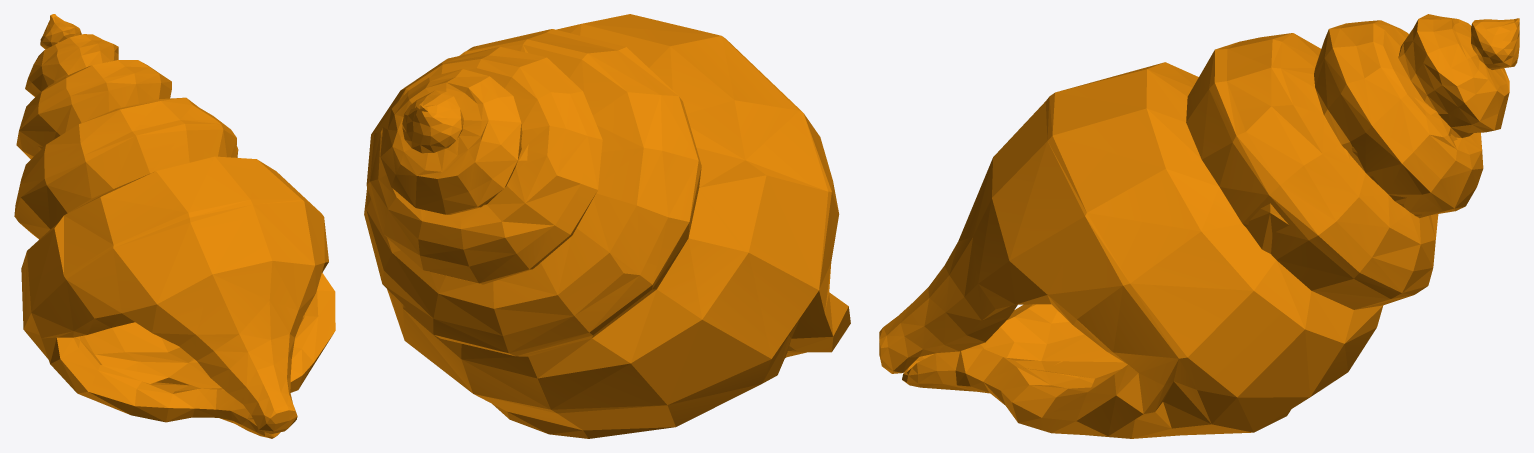
The model's file is EmptyShell_Static_Unity.fbx.
The picture shows the model from 3 angles, left to right: view 1: azimuth 30°, elevation 25°; view 2: azimuth 150°, elevation 25°; view 3: azimuth 270°, elevation 25°; orthographic projection. The views are drawn at different scales.
Parts seen in each view (by area): view 1: EmptyShell; view 2: EmptyShell; view 3: EmptyShell.
Boxes of the visible parts, x1,y1,x2,y2 form: EmptyShell: [14, 14, 335, 438]; EmptyShell: [364, 14, 850, 438]; EmptyShell: [879, 14, 1519, 438].
Size of the model in its own units: 0.5688 by 0.5359 by 0.8.
